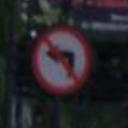NoVirarEsquerda: (29, 21, 94, 99)
